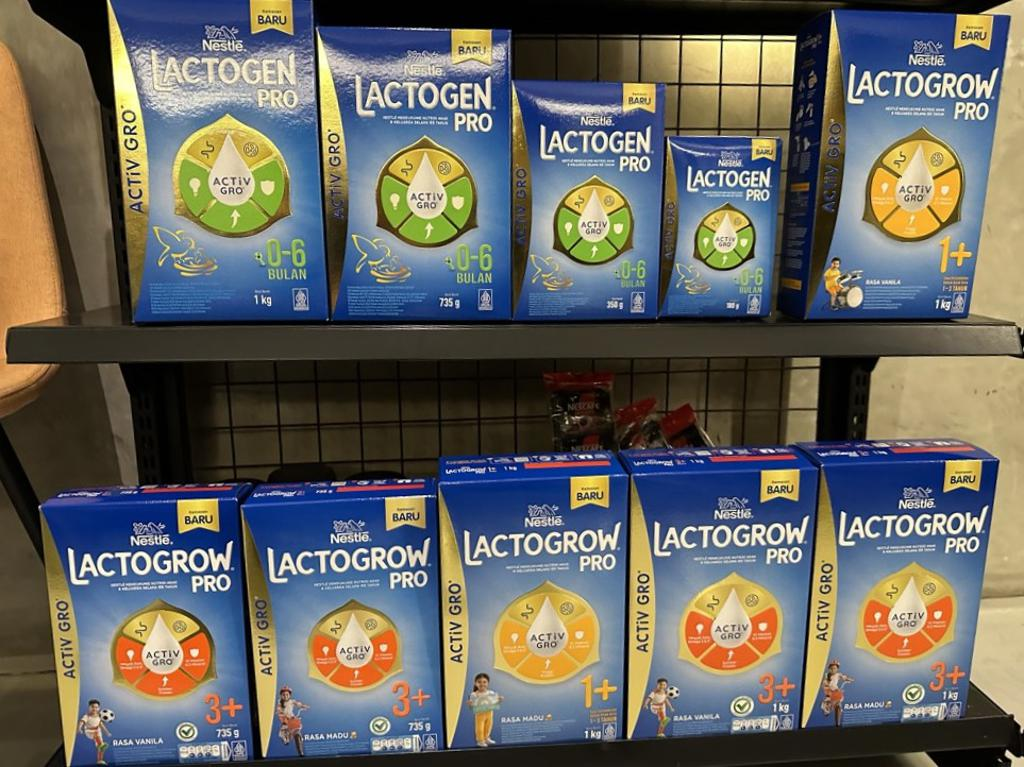LACTOGEN PRO 0-6 mo 12x1kg ID: (106, 0, 329, 323)
LACTOGEN PRO 0-6 mo 12x735g ID: (104, 0, 331, 323), (321, 24, 515, 323)
LACTOGEN PRO 0-6 mo 24x350g ID: (510, 77, 665, 321)
LACTOGEN PRO 0-6 mo 40x180g ID: (658, 135, 783, 321)
LACTOGROW PRO 1+ Van 12x1kg ID: (808, 9, 1018, 318)
LACTOGROW PRO 1+ Van 12x735g ID: (804, 7, 1014, 317)
